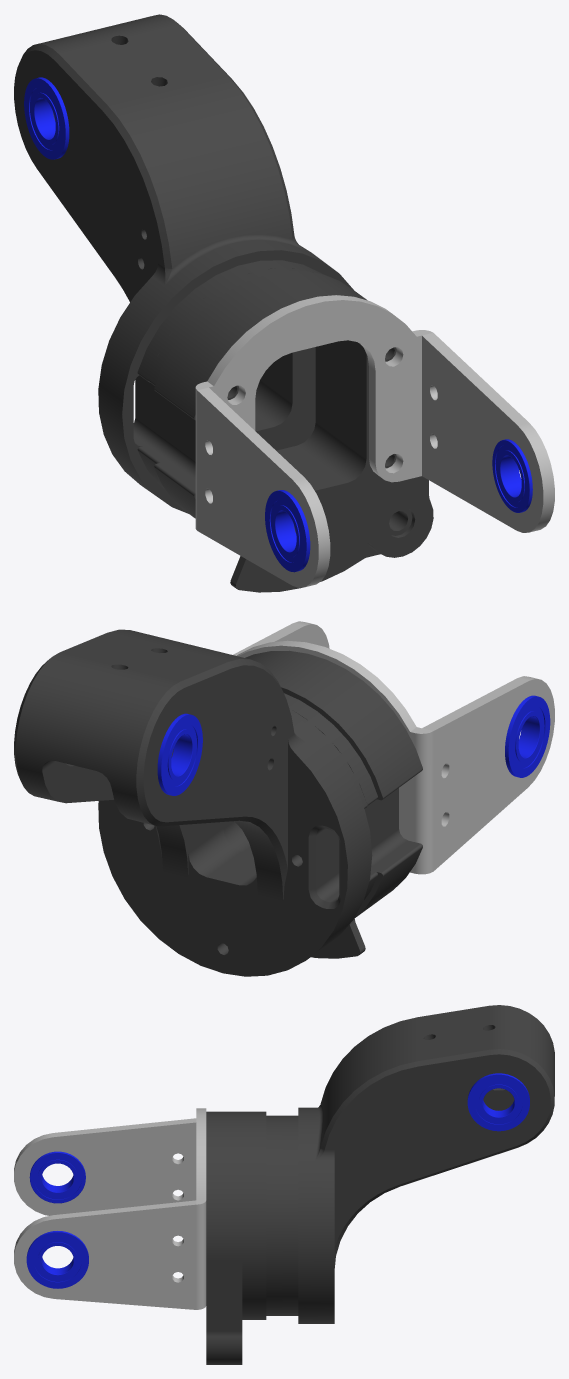
The model's file is LARM_LINK1_mesh.dae.
3 renders of one model, top to bottom at view 1: azimuth 30°, elevation 25°; view 2: azimuth 150°, elevation 25°; view 3: azimuth 270°, elevation 25°, orthographic. The views are drawn at different scales.
Visible parts, largest first — view 1: サーフェス1_ncl1_5, サーフェス1, サーフェス1_ncl1_6, サーフェス1_ncl1_4, サーフェス1_ncl1_1, サーフェス1_ncl1_2; view 2: サーフェス1_ncl1_5, サーフェス1, サーフェス1_ncl1_6, サーフェス1_ncl1_4, サーフェス1_ncl1_1; view 3: サーフェス1_ncl1_5, サーフェス1, サーフェス1_ncl1_6, サーフェス1_ncl1_3, サーフェス1_ncl1_2, サーフェス1_ncl1_1.
Boxes of the visible parts, bbox=[...] form: サーフェス1_ncl1_5: bbox=[14, 14, 353, 513]; サーフェス1: bbox=[195, 295, 554, 587]; サーフェス1_ncl1_6: bbox=[148, 267, 433, 592]; サーフェス1_ncl1_4: bbox=[24, 77, 69, 159]; サーフェス1_ncl1_1: bbox=[265, 490, 310, 572]; サーフェス1_ncl1_2: bbox=[492, 439, 532, 512]; サーフェス1_ncl1_5: bbox=[14, 629, 372, 976]; サーフェス1: bbox=[233, 621, 554, 874]; サーフェス1_ncl1_6: bbox=[223, 650, 422, 958]; サーフェス1_ncl1_4: bbox=[157, 713, 202, 795]; サーフェス1_ncl1_1: bbox=[505, 695, 550, 777]; サーフェス1_ncl1_5: bbox=[282, 1005, 554, 1323]; サーフェス1: bbox=[14, 1108, 206, 1309]; サーフェス1_ncl1_6: bbox=[206, 1111, 282, 1364]; サーフェス1_ncl1_3: bbox=[467, 1073, 529, 1131]; サーフェス1_ncl1_2: bbox=[26, 1231, 88, 1288]; サーフェス1_ncl1_1: bbox=[29, 1151, 85, 1203].
Bounding box in the file's own units: 0.054 × 0.1349 × 0.086.
